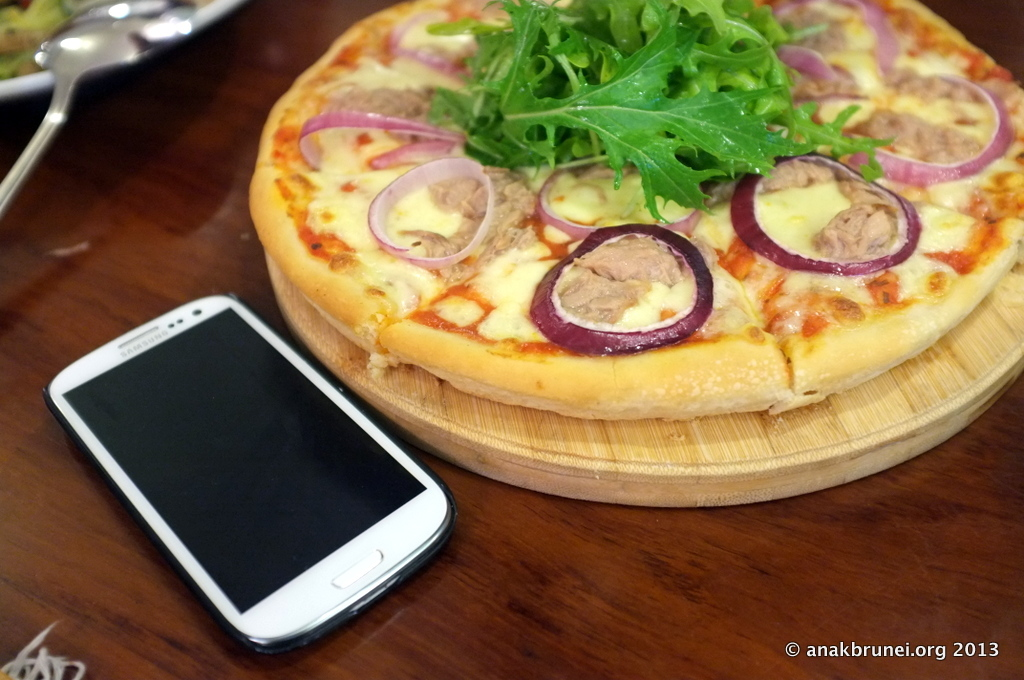Mobile-phone: (39, 289, 468, 662)
